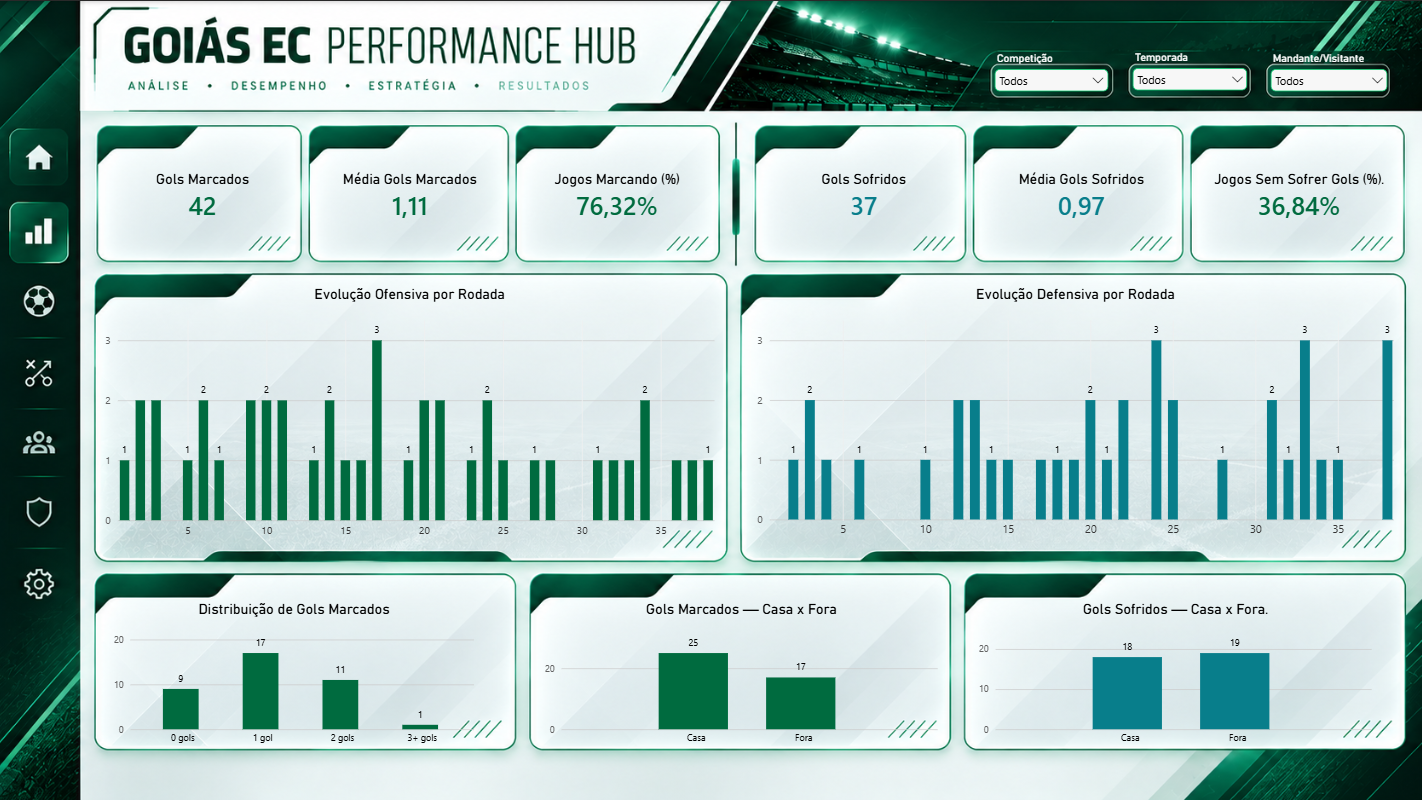

The page's visual inventory and layout, read from the dashboard file:
{"tool":"powerbi","page":{"name":"Performance Coletiva","canvas":[1920,1080],"ordinal":1},"visuals":[{"type":"cardVisual","fields":{"Data":["Medidas.Gols Marcados","Medidas.Media Gols Marcados","Medidas.Taxa Jogos Marcando %"]},"box":[140,178.6,831.4,167.1],"z":0},{"type":"cardVisual","fields":{"Data":["Medidas.Gols Sofridos","Medidas.Media Gols Sofridos","Medidas.Taxa Clean Sheets %"]},"box":[1022.9,178.6,872.9,167.1],"z":1000},{"type":"clusteredColumnChart","title":"Evolução Ofensiva por Rodada","fields":{"Category":["fato_partida_clube.rodada"],"Y":["Medidas.Gols Marcados Visual"]},"box":[128.6,368.6,852.9,374.3],"z":2000},{"type":"clusteredColumnChart","title":"Evolução Defensiva por Rodada","fields":{"Category":["fato_partida_clube.rodada"],"Y":["Medidas.Gols Sofridos Visual"]},"box":[1005.7,368.6,890,374.3],"z":3000},{"type":"clusteredColumnChart","title":"Distribuição de Gols Marcados","fields":{"Category":["fato_partida_clube.Faixa Gols Marcados"],"Y":["Medidas.Total Jogos"]},"box":[140,792.9,517.1,228.6],"z":4000},{"type":"clusteredColumnChart","title":"Gols Marcados — Casa x Fora","fields":{"Category":["fato_partida_clube.mando"],"Y":["Medidas.Gols Marcados"]},"box":[720,792.9,561.4,228.6],"z":5000},{"type":"clusteredColumnChart","title":"Gols Sofridos — Casa x Fora.","fields":{"Category":["fato_partida_clube.mando"],"Y":["Medidas.Gols Sofridos"]},"box":[1304.3,792.9,561.4,228.6],"z":6000},{"type":"slicer","fields":{"Values":["fato_partida_clube.temporada"]},"box":[1523,67.3,164.3,68.7],"z":7000},{"type":"slicer","fields":{"Values":["fato_partida_clube.mando"]},"box":[1708.9,68.7,167,70],"z":8000},{"type":"slicer","fields":{"Values":["fato_partida_clube.Competicao Exibicao"]},"box":[1337.5,68.3,162.5,103.3],"z":9000},{"type":"actionButton","title":"BTN_Home","box":[29.6,179.1,51.2,66],"z":10000},{"type":"actionButton","box":[29.6,382.4,59.3,48.5],"z":11000},{"type":"actionButton","box":[28.9,475.2,59.3,48.5],"z":12000},{"type":"actionButton","title":"BTN_Home","box":[32.3,556.2,51.2,66],"z":12001}]}

Visuals, with their boxes on the page's 1920x1080 design canvas (x1, y1, x2, y2). These are canvas units, not pixel positions in the 1422x800 screenshot, which may show the page scaled, cropped or inside an application window:
cardVisual - Medidas.Gols Marcados x Medidas.Media Gols Marcados: 140,179,971,346
cardVisual - Medidas.Gols Sofridos x Medidas.Media Gols Sofridos: 1023,179,1896,346
"Evolução Ofensiva por Rodada" clusteredColumnChart: 129,369,982,743
"Evolução Defensiva por Rodada" clusteredColumnChart: 1006,369,1896,743
"Distribuição de Gols Marcados" clusteredColumnChart: 140,793,657,1022
"Gols Marcados — Casa x Fora" clusteredColumnChart: 720,793,1281,1022
"Gols Sofridos — Casa x Fora." clusteredColumnChart: 1304,793,1866,1022
slicer - fato_partida_clube.temporada: 1523,67,1687,136
slicer - fato_partida_clube.mando: 1709,69,1876,139
slicer - fato_partida_clube.Competicao Exibicao: 1338,68,1500,172
"BTN_Home" actionButton: 30,179,81,245
actionButton: 30,382,89,431
actionButton: 29,475,88,524
"BTN_Home" actionButton: 32,556,84,622
